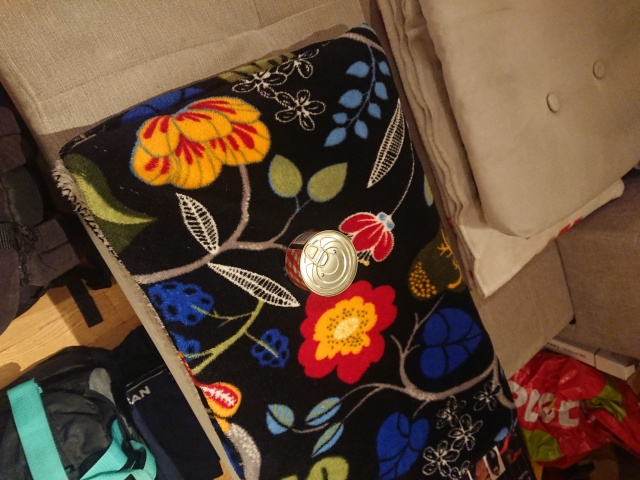Podravka Luncheon Meat 150g: (283, 227, 361, 299)
